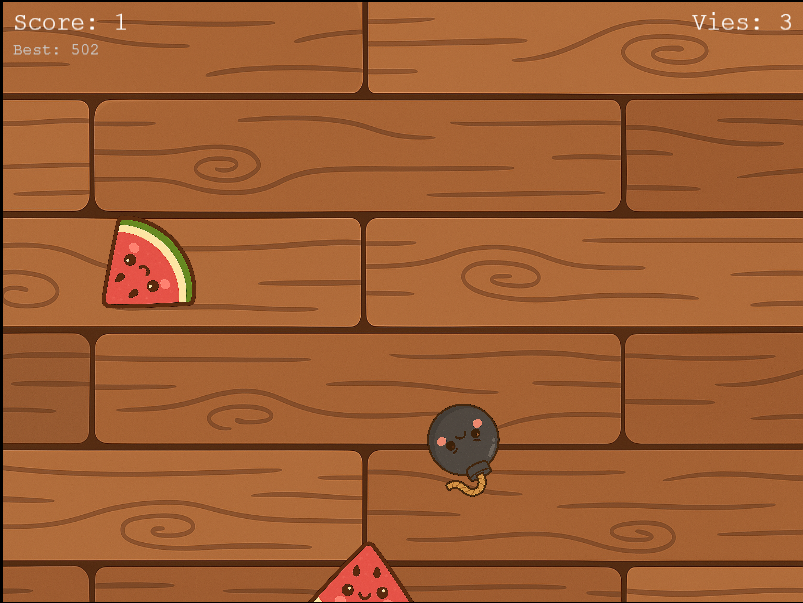bomb: (423, 397, 503, 503)
fruit: (97, 207, 204, 315), (301, 535, 423, 603)
